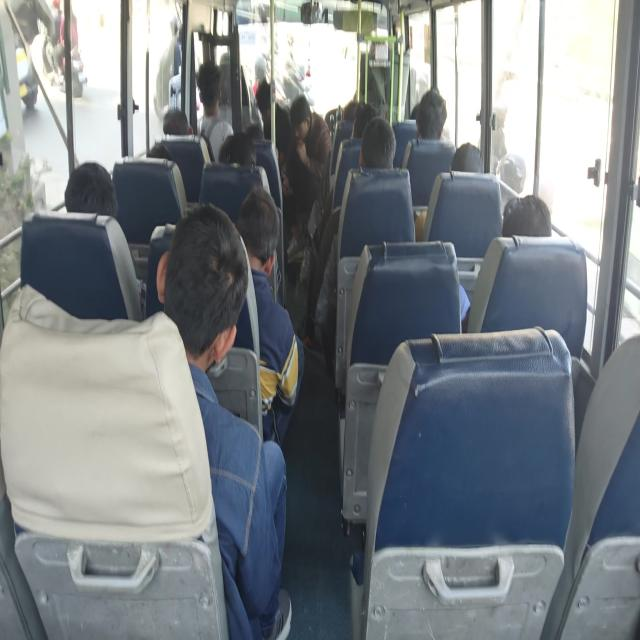person: (155, 202, 292, 638), (314, 116, 396, 371), (233, 186, 305, 446), (64, 160, 145, 320), (459, 194, 552, 330), (282, 94, 331, 258), (196, 60, 233, 163), (218, 131, 270, 195), (64, 161, 118, 218), (501, 194, 552, 237), (358, 116, 396, 170), (415, 86, 448, 140), (496, 152, 526, 194), (450, 142, 484, 173), (162, 108, 191, 136)
